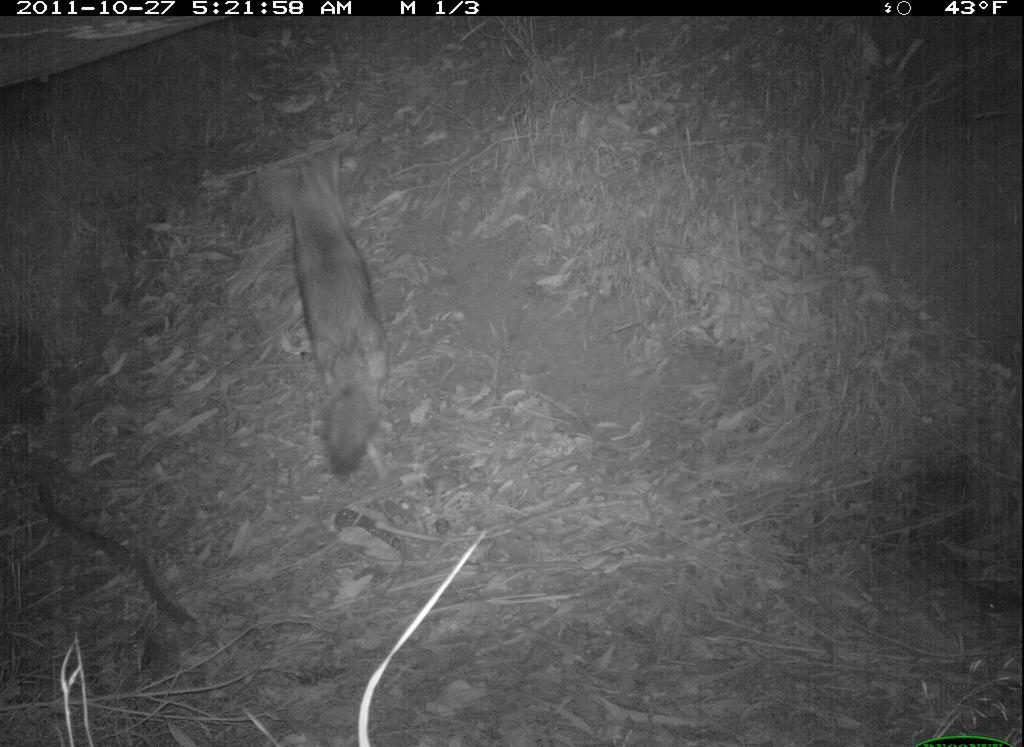coyote: (257, 140, 418, 495)
